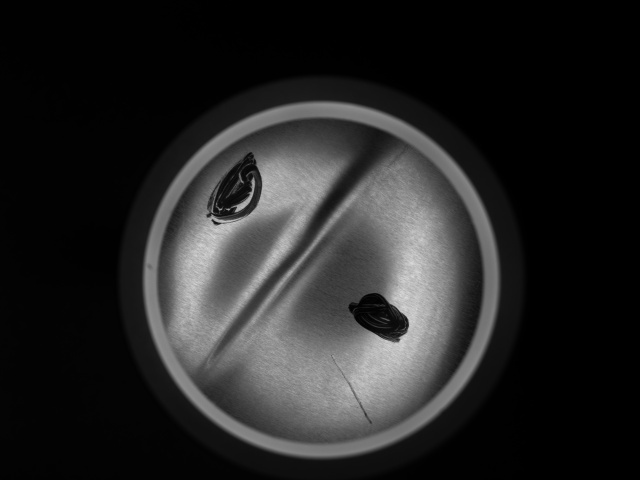ca_shang: (325, 348, 375, 428)
zang_wu: (204, 153, 268, 224), (345, 288, 410, 345)
zhe_zhou: (208, 141, 438, 418)
